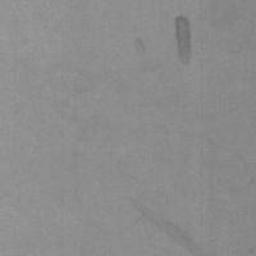Water spot: (124, 196, 219, 256), (174, 14, 193, 67), (133, 36, 148, 58)
